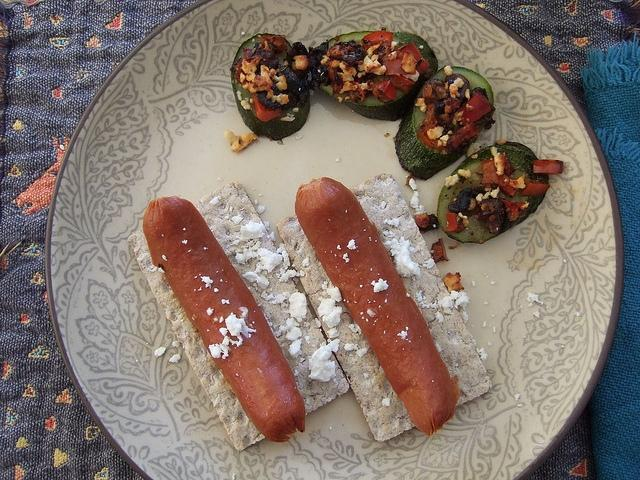tomato: (456, 90, 492, 126), (446, 122, 480, 153), (360, 31, 392, 55), (252, 95, 280, 122), (372, 77, 399, 100), (396, 42, 422, 63), (383, 59, 416, 75), (418, 131, 443, 152), (497, 173, 518, 198), (482, 159, 499, 188), (392, 74, 415, 95), (520, 182, 550, 198), (533, 160, 563, 174), (401, 50, 416, 75), (444, 213, 458, 232), (416, 212, 430, 229), (504, 200, 525, 210), (422, 84, 432, 98)
